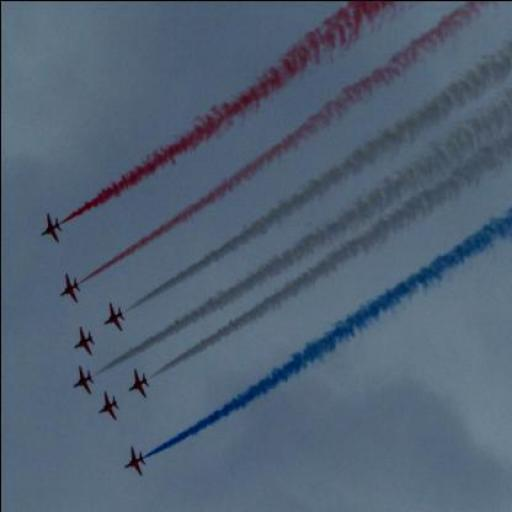aircraft: (120, 442, 148, 486), (127, 362, 154, 406), (101, 296, 127, 338), (95, 389, 122, 426), (59, 269, 81, 314), (71, 324, 96, 363), (68, 362, 92, 399), (39, 208, 63, 242)
